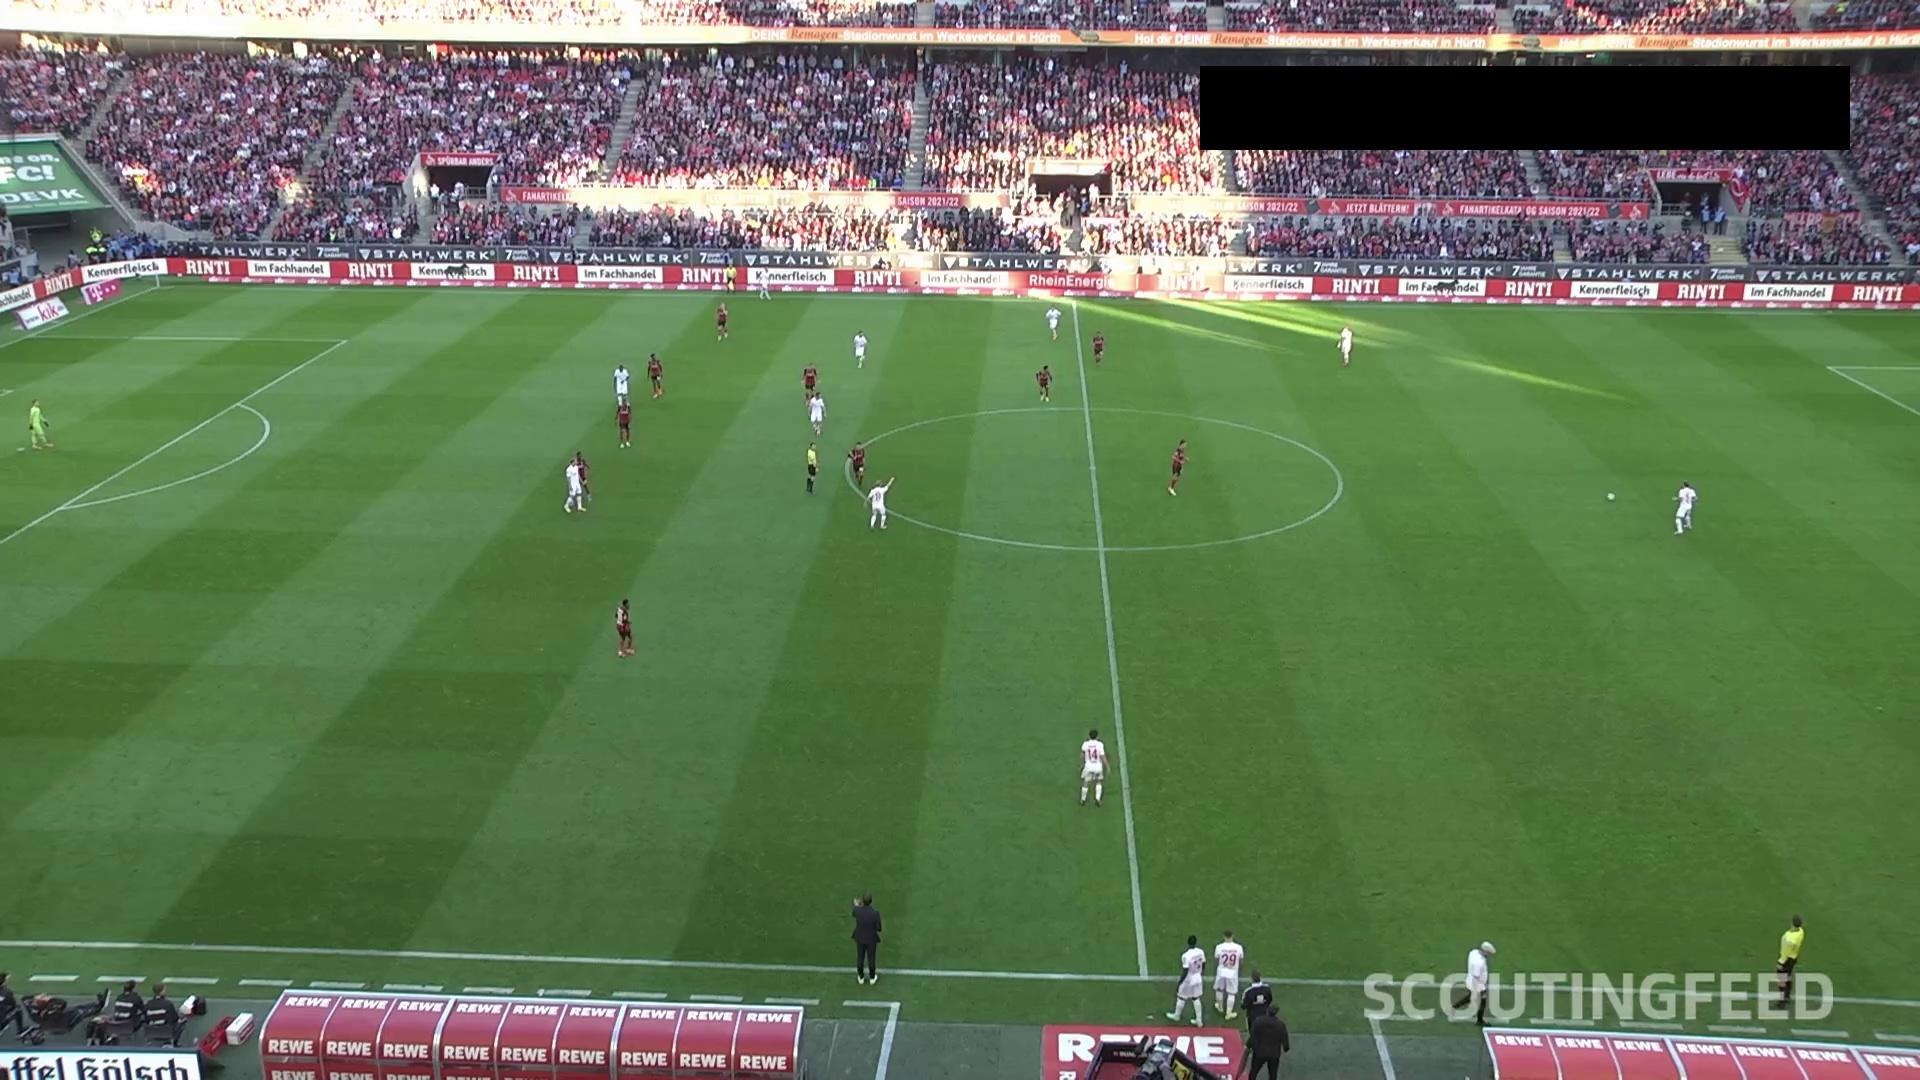Location-of-ball: (1590, 479, 1629, 516)
